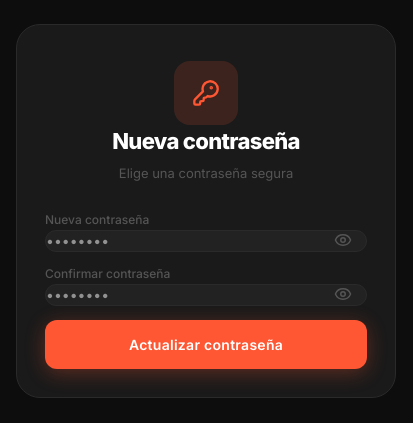
it: ResetPassword › bloquea el envío si las contraseñas no coinciden
The width and height of the screenshot is (413, 423).
In the password field labelled "Nueva contraseña": (206, 241) [45, 230, 367, 252], type "nuevaClave1"
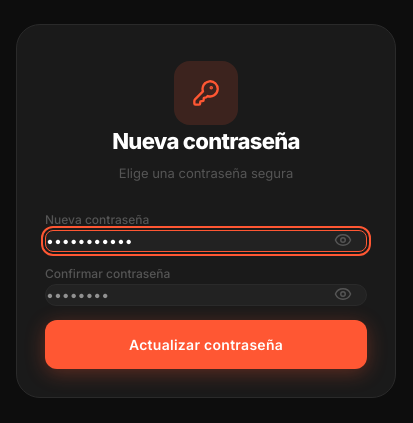
In the password field labelled "Confirmar contraseña": (206, 295) [45, 284, 367, 306], type "otraClave2"
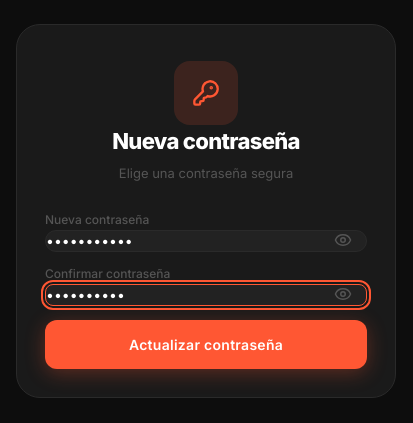
Click the button "Actualizar contraseña": (206, 344) [45, 320, 367, 369]
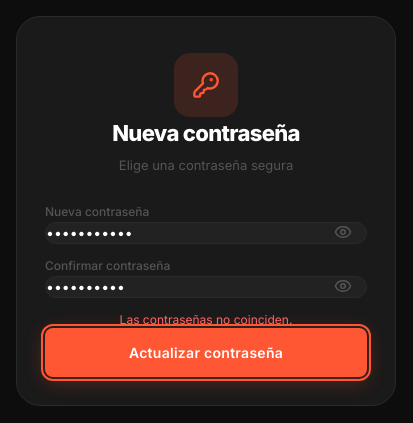
Expected: the message reads "Las contraseñas no coinciden.", [120, 312, 292, 327]
